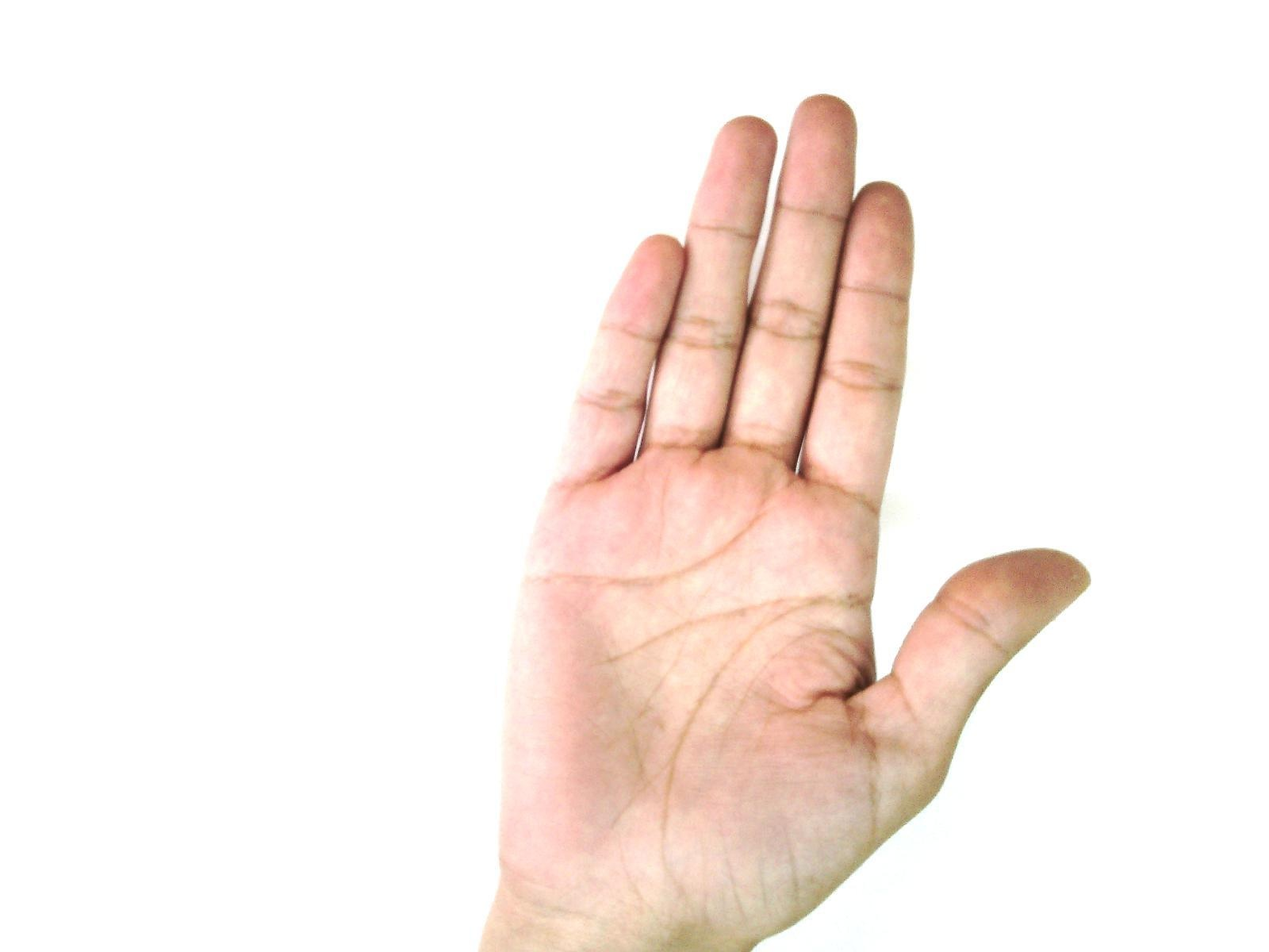open_palm: (475, 93, 1093, 951)
